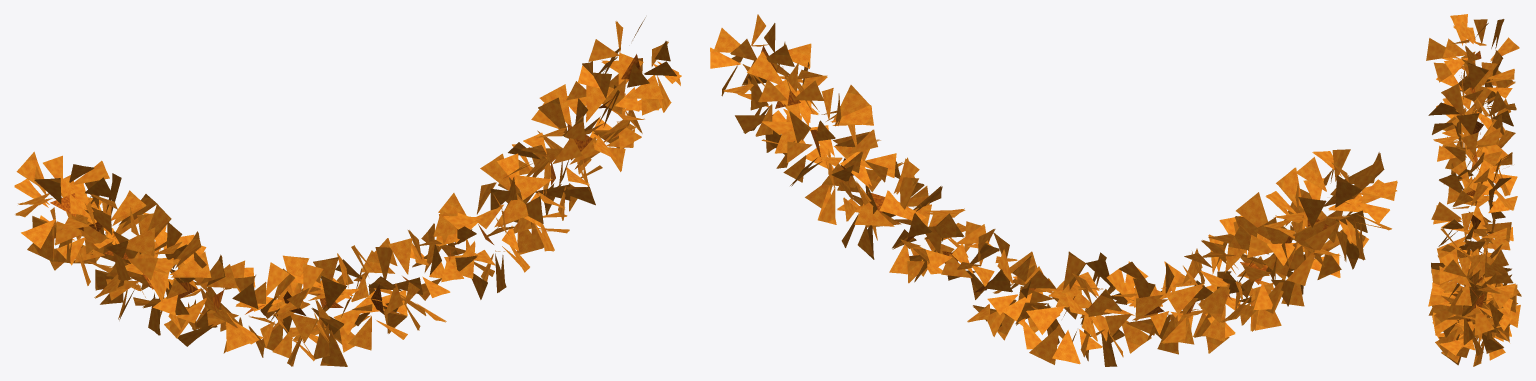
File: guirnalda_baja_medio.obj
3 renders of one model, left to right at view 1: azimuth 30°, elevation 25°; view 2: azimuth 150°, elevation 25°; view 3: azimuth 270°, elevation 25°, orthographic. The views are drawn at different scales.
Parts seen in each view (by area): view 1: Cadena_Colgada_1; view 2: Cadena_Colgada_1; view 3: Cadena_Colgada_1.
Boxes of the visible parts, <box> form: Cadena_Colgada_1: <box>14,17,681,366</box>; Cadena_Colgada_1: <box>710,14,1397,366</box>; Cadena_Colgada_1: <box>1426,14,1521,366</box>.
Size of the model in its own units: 3.48 by 1.34 by 0.5525.
2 materials, 2 textured.
